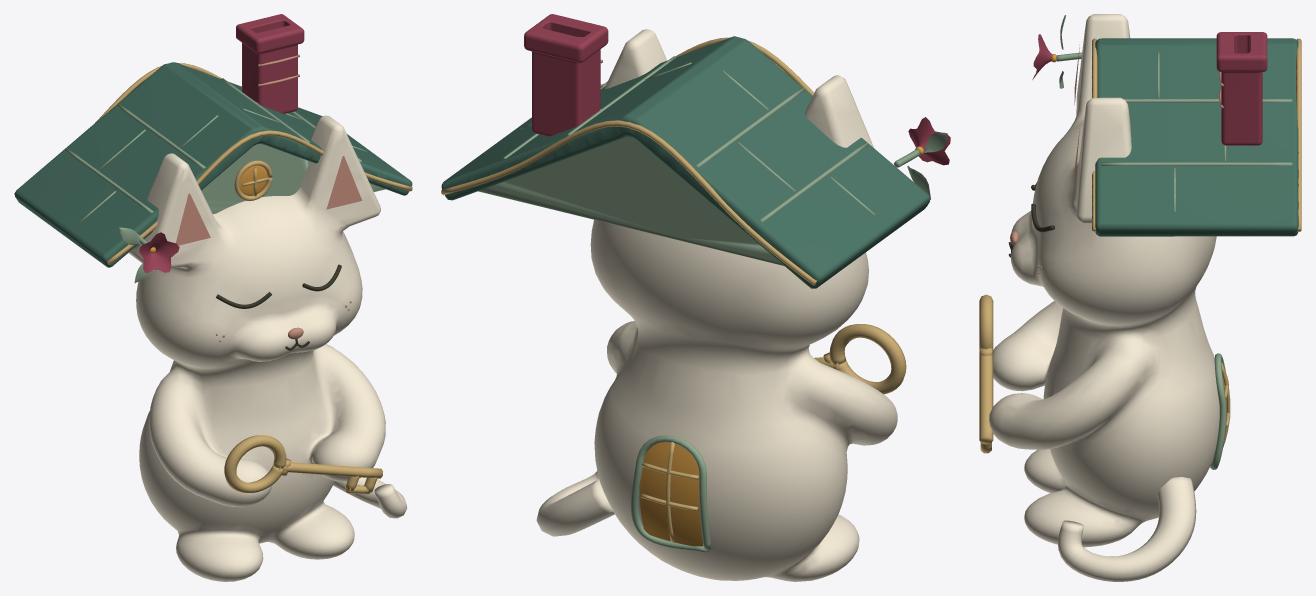
File: home.v1.glb
3 views of the same model, side by side, from view 1: azimuth 30°, elevation 25°; view 2: azimuth 150°, elevation 25°; view 3: azimuth 270°, elevation 25° (orthographic). The views are drawn at different scales.
Parts seen in each view (by area): view 1: Home | Porcelain, Home | Roof, Home | Garnet, Home | Gold, Home | Celadon, Home | Rose, Home | Ink, Home | Honey; view 2: Home | Porcelain, Home | Roof, Home | Celadon, Home | Garnet, Home | Gold, Home | Honey; view 3: Home | Porcelain, Home | Roof, Home | Garnet, Home | Gold, Home | Celadon, Home | Rose.
Part boxes in pixels (x1,y1,x2,y2): Home | Porcelain: (128,115,406,581); Home | Roof: (14,62,412,267); Home | Garnet: (139,14,304,272); Home | Gold: (14,63,412,494); Home | Celadon: (64,78,385,283); Home | Rose: (176,54,362,341); Home | Ink: (216,264,341,350); Home | Honey: (150,165,267,253); Home | Porcelain: (536,29,897,581); Home | Roof: (441,36,930,288); Home | Celadon: (478,56,947,552); Home | Garnet: (524,14,950,165); Home | Gold: (441,37,906,542); Home | Honey: (639,146,923,546); Home | Porcelain: (989,14,1219,581); Home | Roof: (1095,38,1298,236); Home | Garnet: (1032,32,1267,145); Home | Gold: (979,38,1301,453); Home | Celadon: (1056,15,1292,469); Home | Rose: (1010,45,1223,273).
Size of the model in its own units: 0.699 by 1 by 0.5689.
